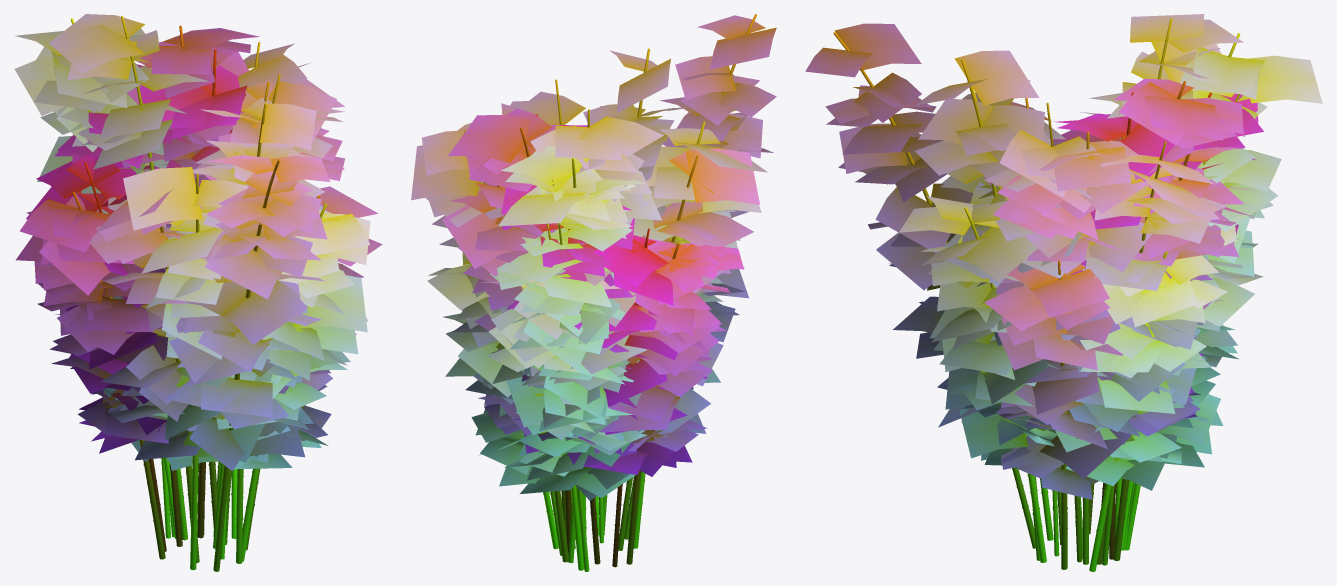
File: bamboo_clump.glb
3 renders of one model, left to right at view 1: azimuth 30°, elevation 25°; view 2: azimuth 150°, elevation 25°; view 3: azimuth 270°, elevation 25°, orthographic. The views are drawn at different scales.
Visible parts, largest first — view 1: bamboo_clump_leaves, bamboo_clump_culms; view 2: bamboo_clump_leaves, bamboo_clump_culms; view 3: bamboo_clump_leaves, bamboo_clump_culms.
Part boxes in pixels (bbox=[...]): bamboo_clump_leaves: bbox=[14, 14, 382, 470]; bamboo_clump_culms: bbox=[71, 16, 327, 571]; bamboo_clump_leaves: bbox=[411, 15, 776, 500]; bamboo_clump_culms: bbox=[464, 14, 756, 571]; bamboo_clump_leaves: bbox=[805, 14, 1322, 499]; bamboo_clump_culms: bbox=[833, 18, 1255, 571].
Size of what is drawn, in the model's own units: 5.8 by 8.61 by 7.81.
